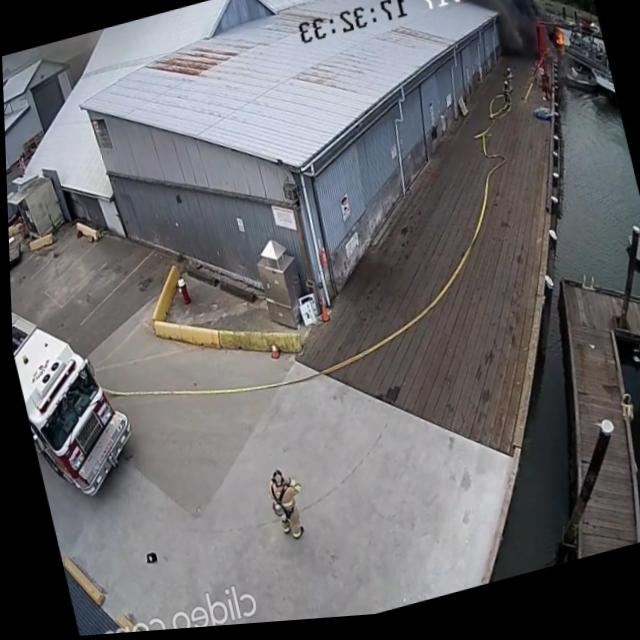fire: (543, 32, 572, 68)
